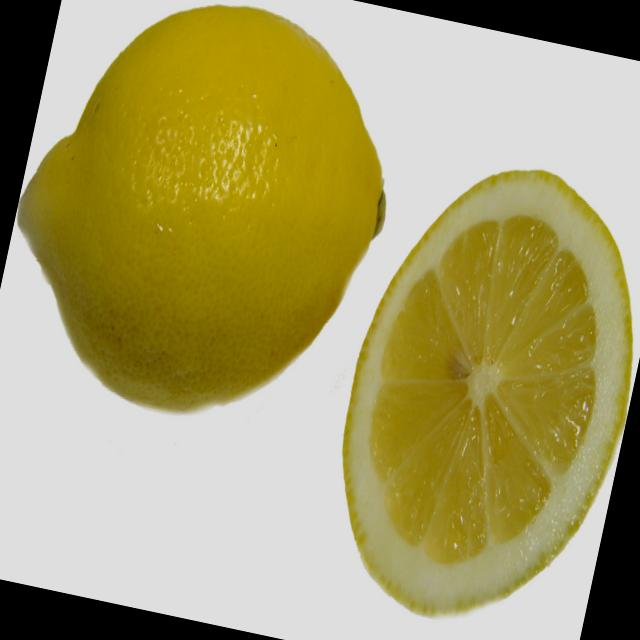lemon: (0, 0, 430, 450), (306, 127, 640, 637)
